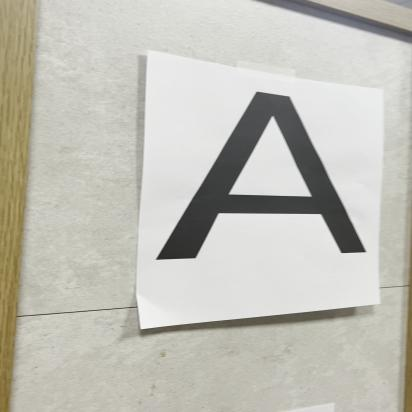seat: (154, 78, 378, 289)
